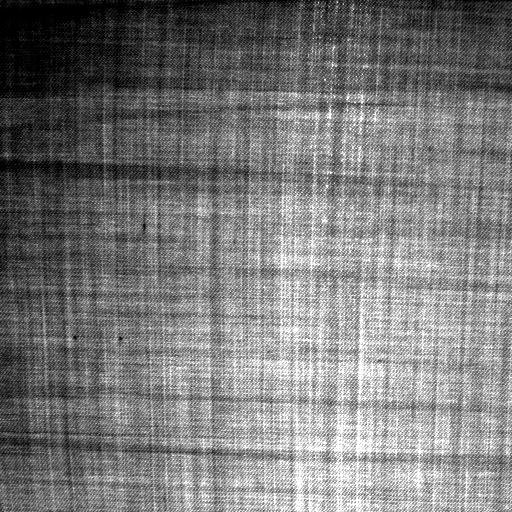fabric_thick_weft: (68, 331, 128, 347)
